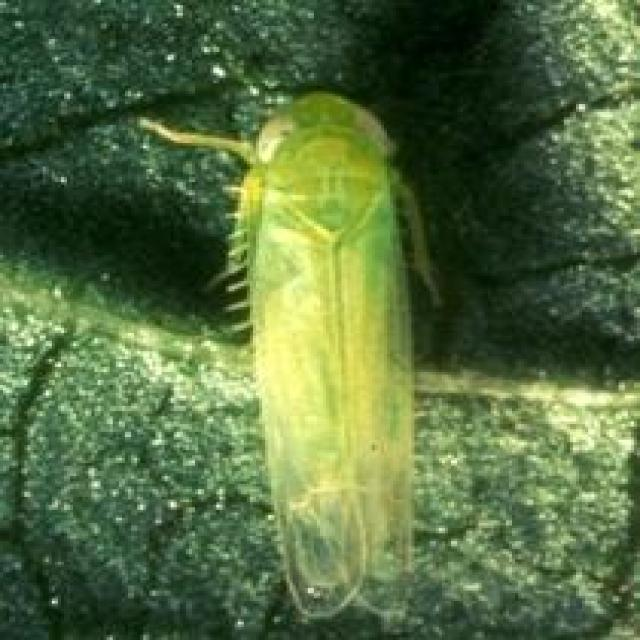Yechan: (192, 82, 458, 619)
